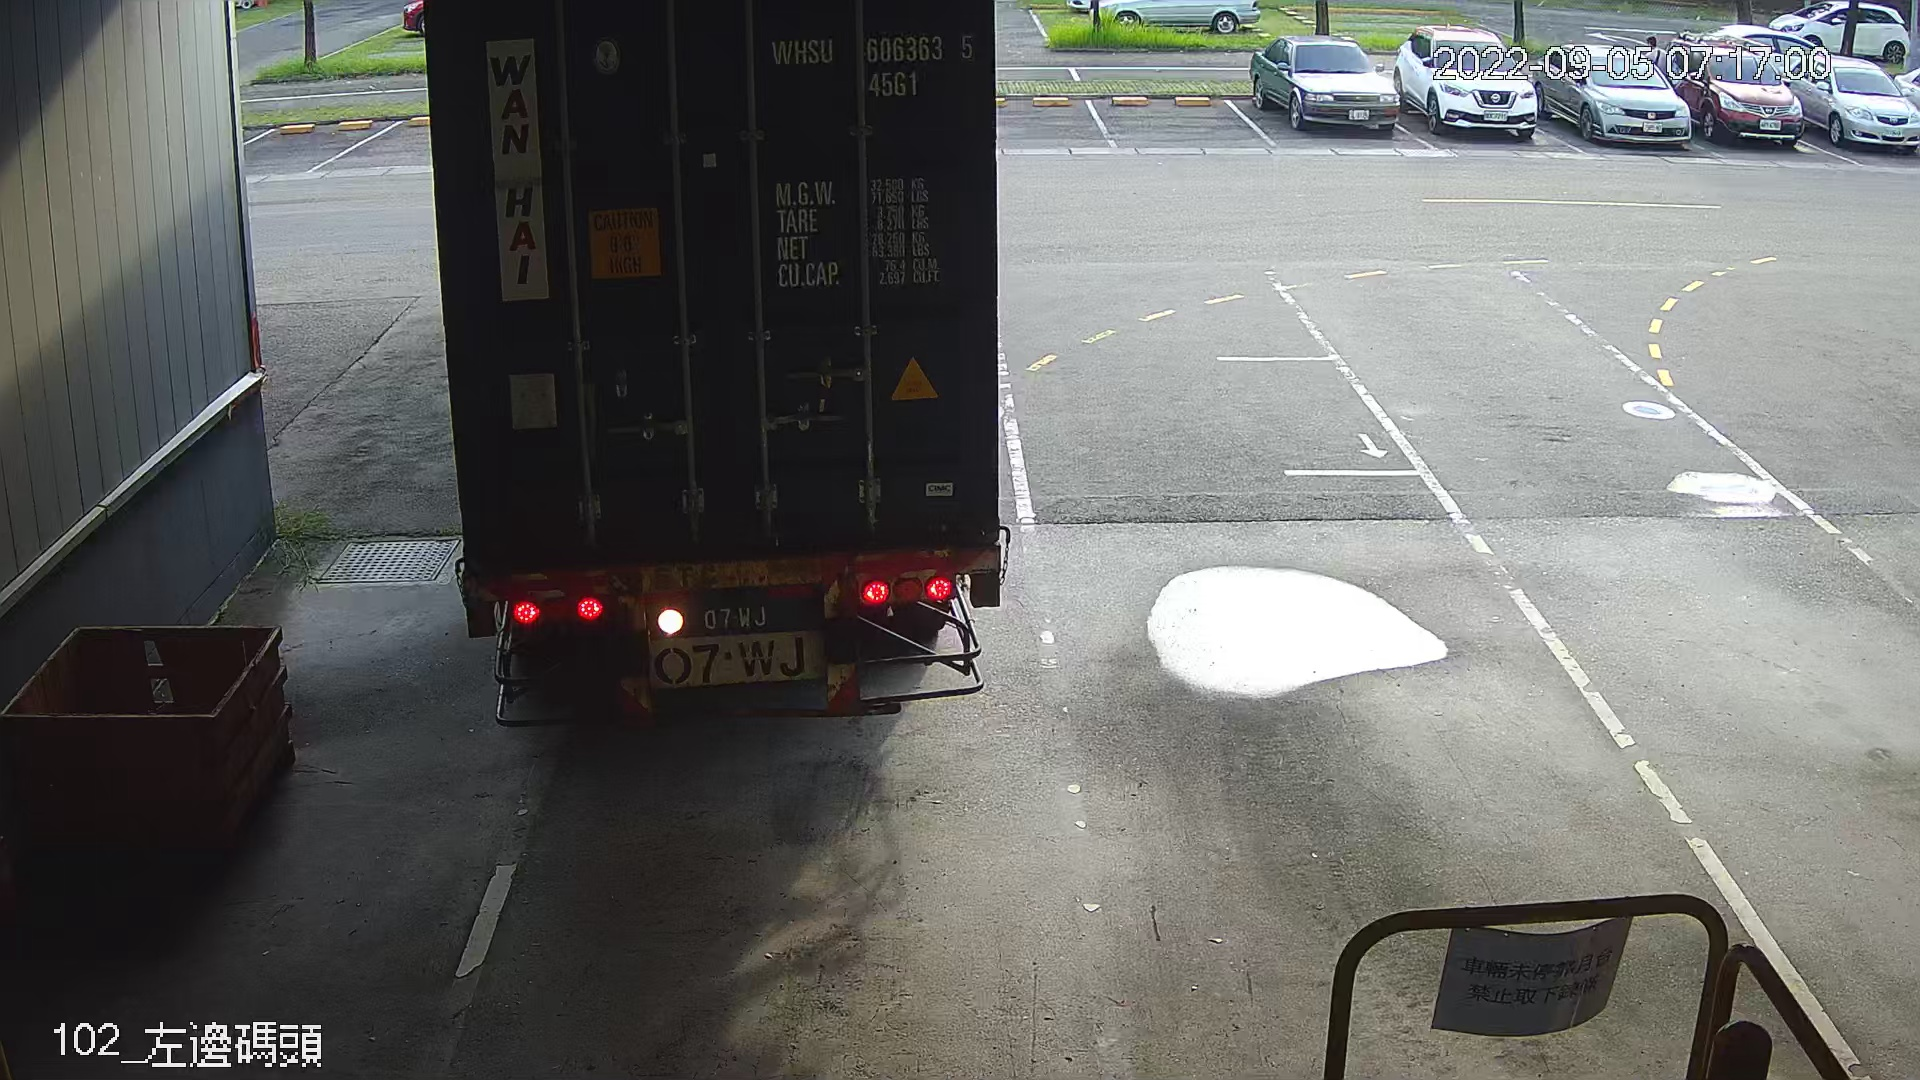container: (762, 26, 982, 104)
